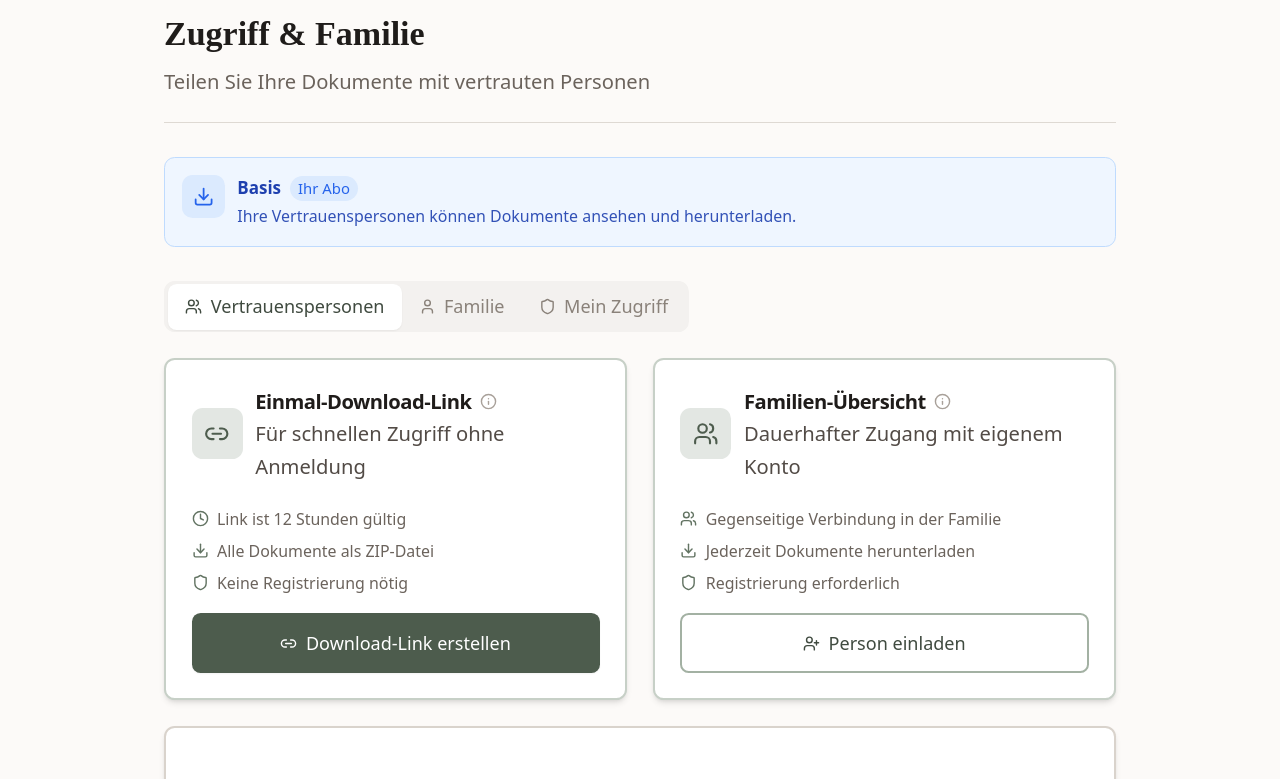
ZugriffPage Familie Tab Full Integration › Familie Tab Access Level Banners › should show download access banner when Premium member exists
Expected: the heading "Zugriff & Familie" is shown, 164,15 -> 425,52
Click the tab "Familie": (462, 307) 402,284 -> 522,330
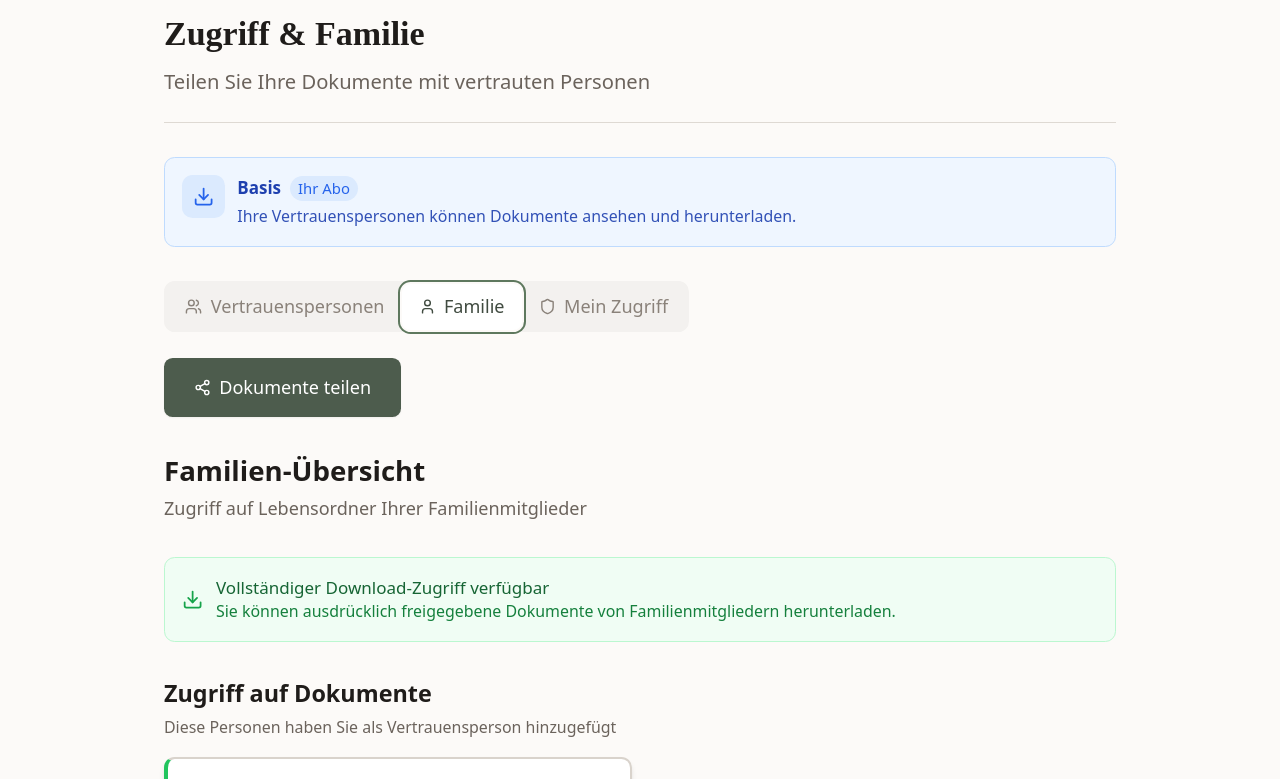
Now the text "Vollständiger Download-Zugriff verfügbar" is shown, box 216,576 -> 549,599
